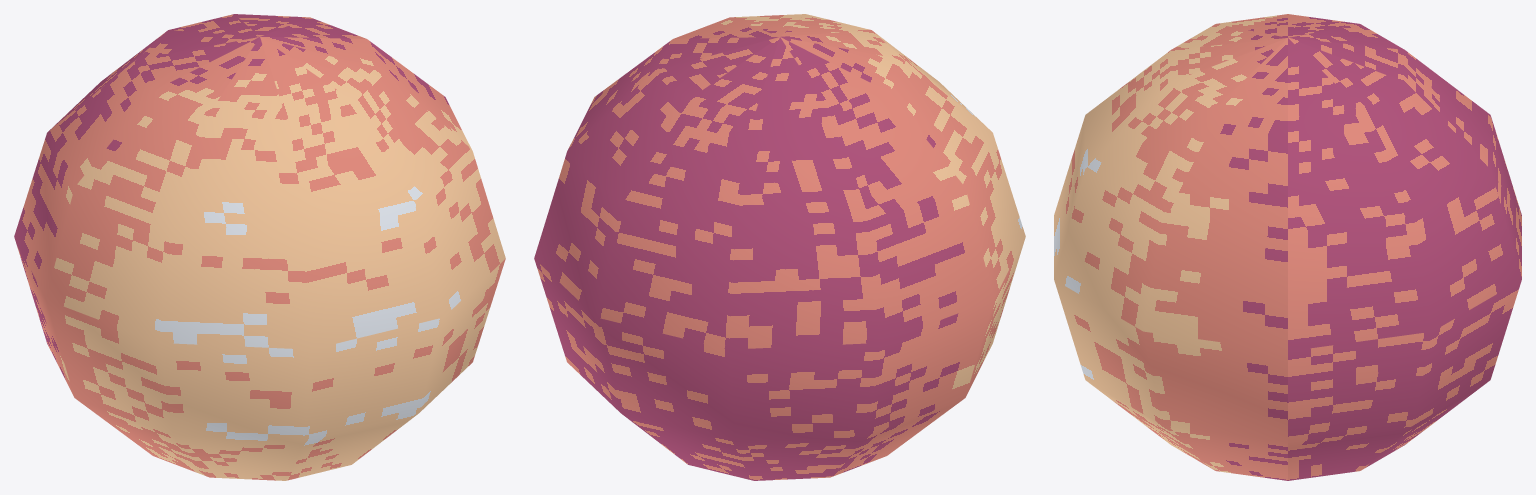
File: skyx.planet.glb
The picture shows the model from 3 angles, left to right: view 1: azimuth 30°, elevation 25°; view 2: azimuth 150°, elevation 25°; view 3: azimuth 270°, elevation 25°; orthographic projection.
Parts seen in each view (by area): view 1: kit_shell_planet; view 2: kit_shell_planet; view 3: kit_shell_planet.
Part boxes in pixels (bbox=[...]): kit_shell_planet: bbox=[14, 14, 505, 480]; kit_shell_planet: bbox=[534, 14, 1025, 480]; kit_shell_planet: bbox=[1054, 14, 1521, 480].
Size of the model in its own units: 120 by 113 by 114.
1 material, 1 textured.
